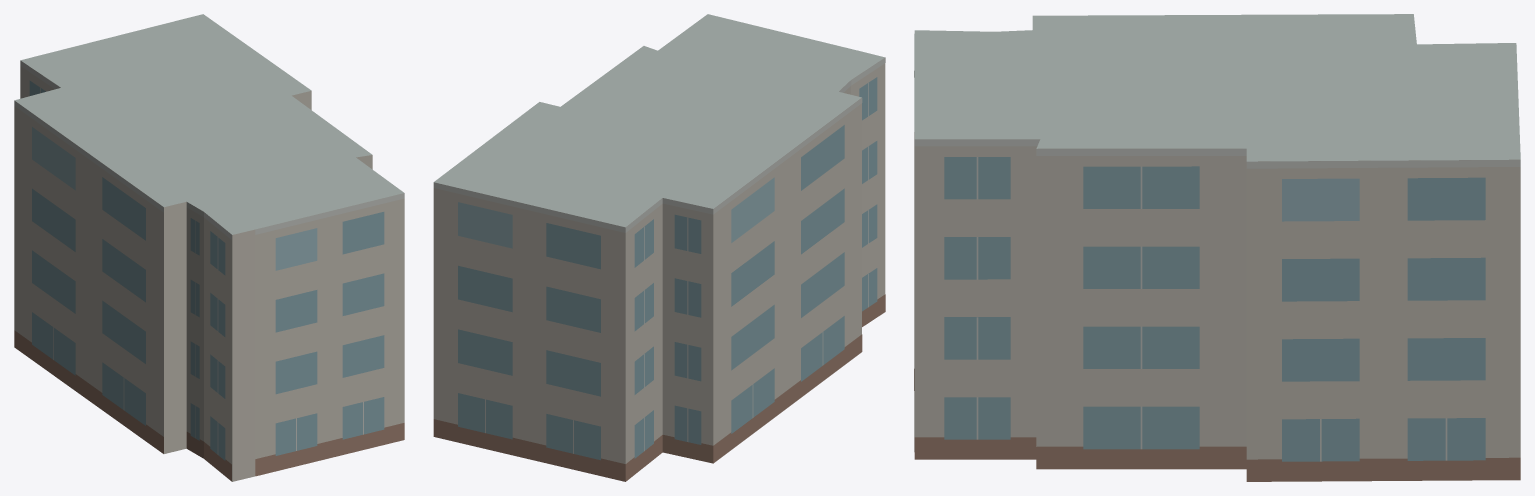
The model's file is survey-upis-32660375.glb.
The picture shows the model from 3 angles, left to right: view 1: azimuth 30°, elevation 25°; view 2: azimuth 150°, elevation 25°; view 3: azimuth 270°, elevation 25°; orthographic projection. The views are drawn at different scales.
Parts seen in each view (by area): view 1: survey-upis-32660375.tmp; view 2: survey-upis-32660375.tmp; view 3: survey-upis-32660375.tmp.
Boxes of the visible parts, x1=… form: survey-upis-32660375.tmp: x1=14, y1=14, x2=404, y2=481; survey-upis-32660375.tmp: x1=433, y1=14, x2=885, y2=481; survey-upis-32660375.tmp: x1=914, y1=14, x2=1520, y2=481.
Bounding box in the file's own units: 10.78 × 10.91 × 18.73.
